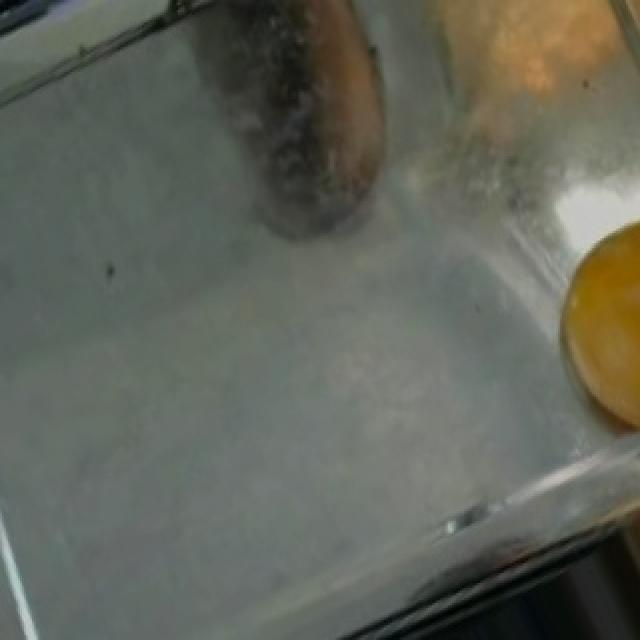Fruit: (494, 0, 640, 208), (534, 213, 640, 459)
